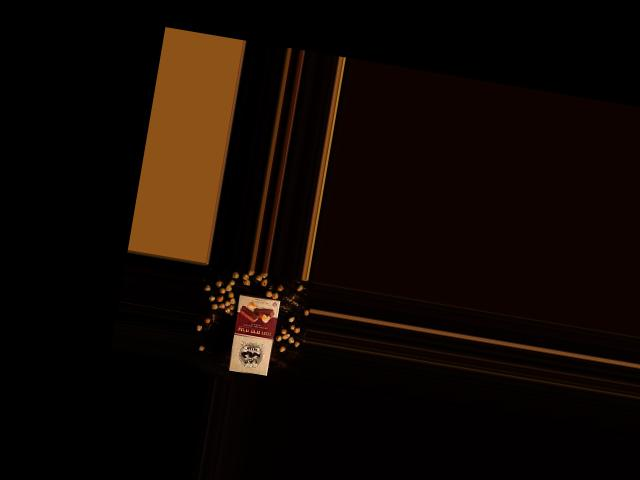chocolate: (222, 291, 283, 379)
